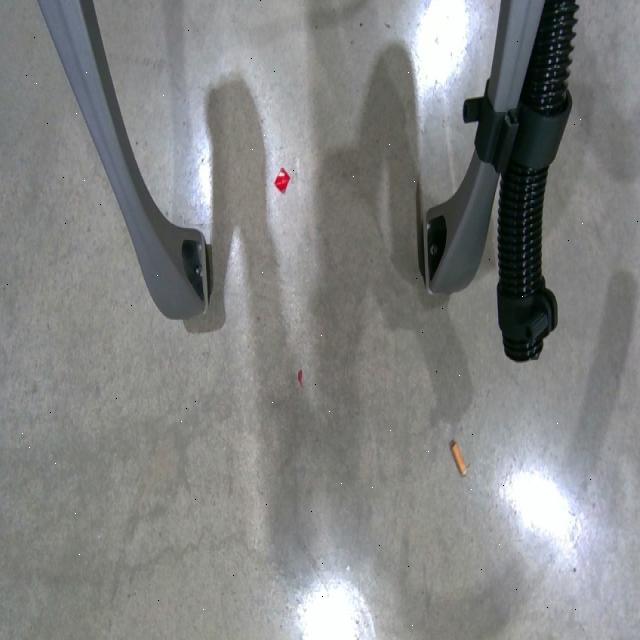Smoking: (446, 437, 470, 481)
